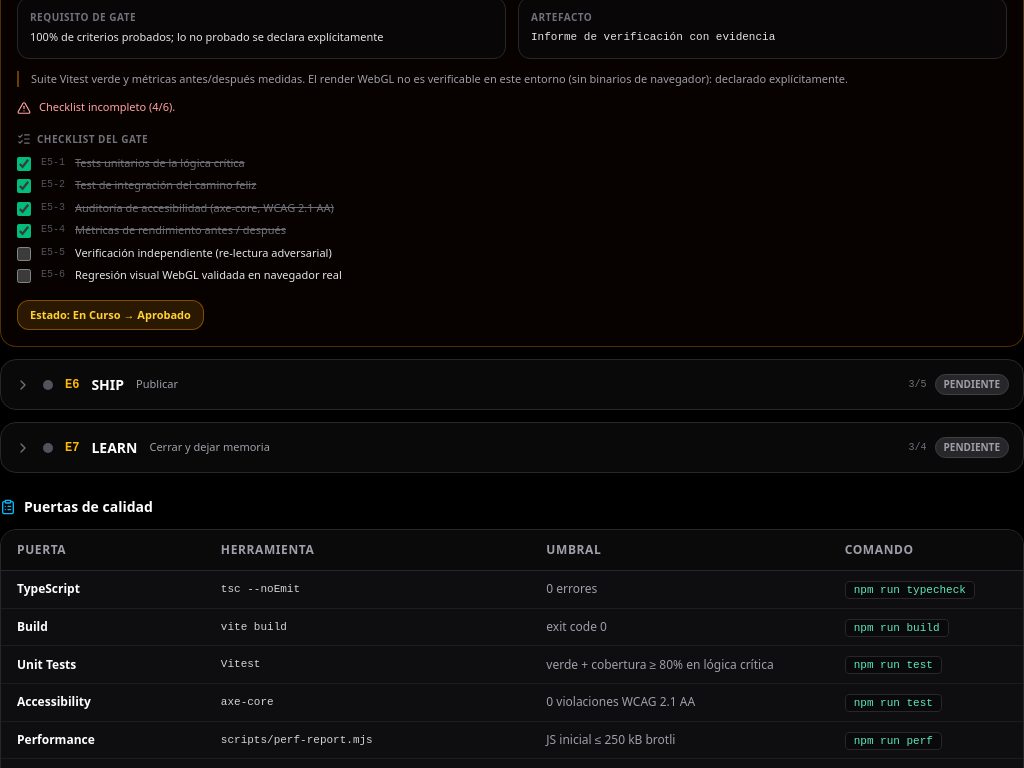
SddMaestroView — checklist state machine (P3) › marks an item as done and promotes the stage out of pending
(page scrolled)
Click the button "E6 SHIP Publicar 3/5 Pendiente".
click(108, 384)  # box [15,374,1009,395]
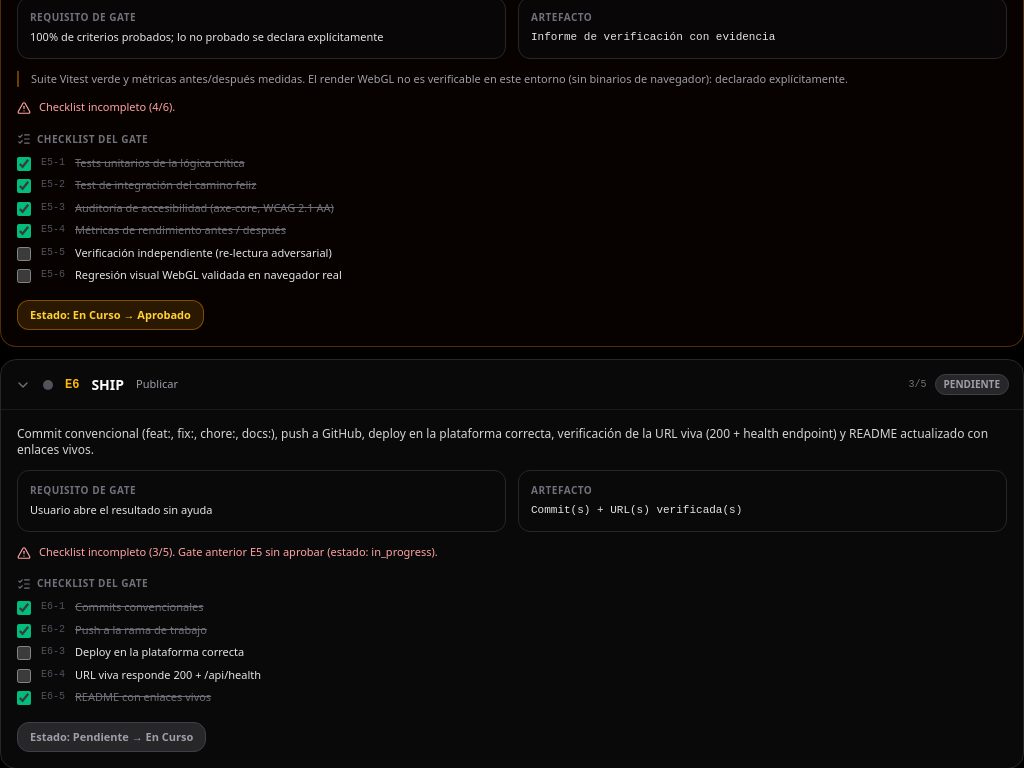
Expected: the checkbox labelled "E6-3 Deploy en la plataforma correcta" is shown
Click the checkbox labelled "E6-3 Deploy en la plataforma correcta".
click(24, 653)  # box [17,646,31,660]
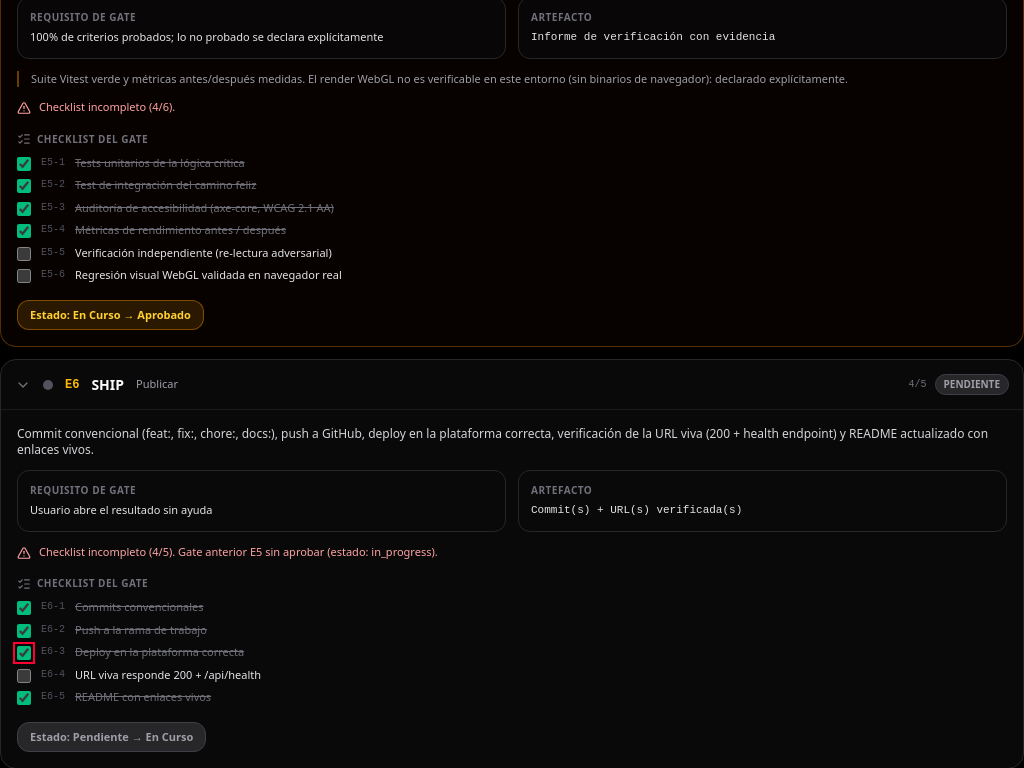
Expected: the checkbox labelled "E6-3 Deploy en la plataforma correcta" is checked, [17,646,31,660]
